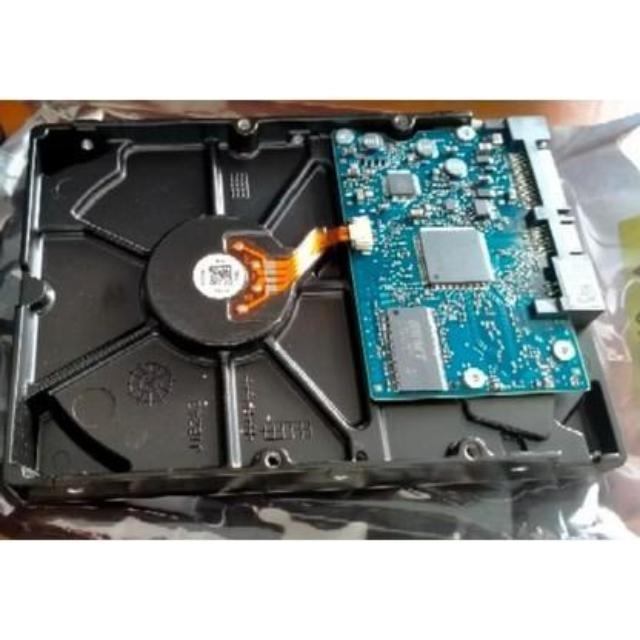DISK: (3, 98, 632, 524)
